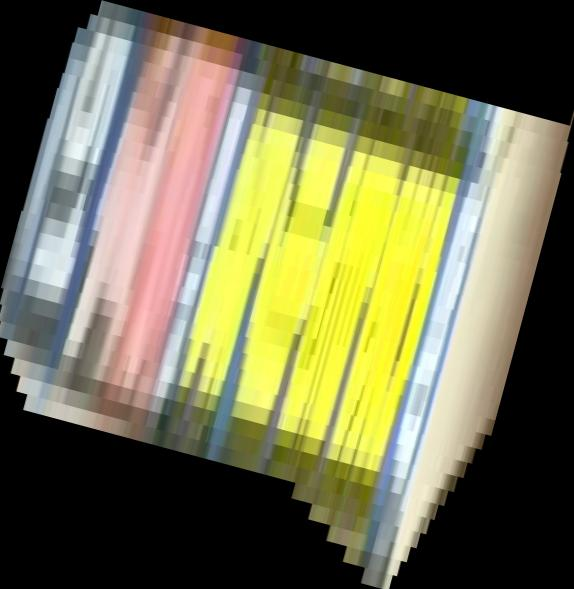flat: (1, 1, 574, 589)
